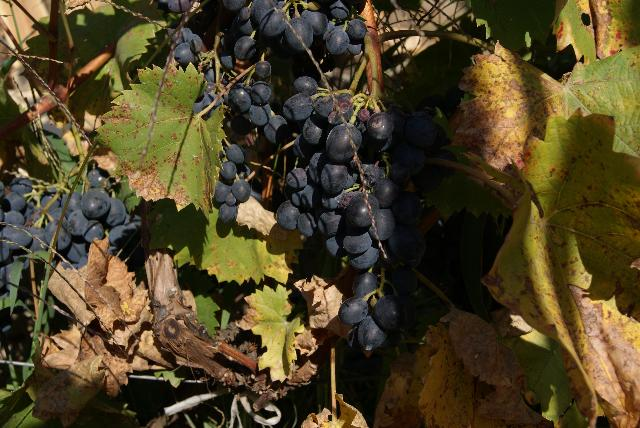grapes: (276, 79, 451, 351), (0, 178, 140, 264)
